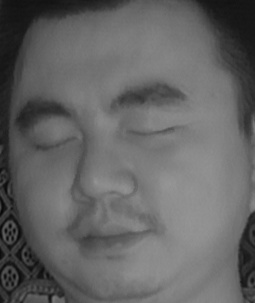blink: (129, 113, 179, 150), (30, 127, 78, 160)
mouth: (65, 207, 153, 264)
